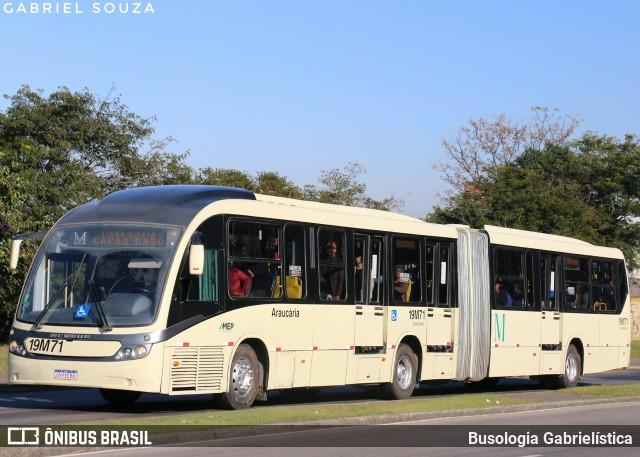CAPAO RASO: (90, 236, 167, 248)
